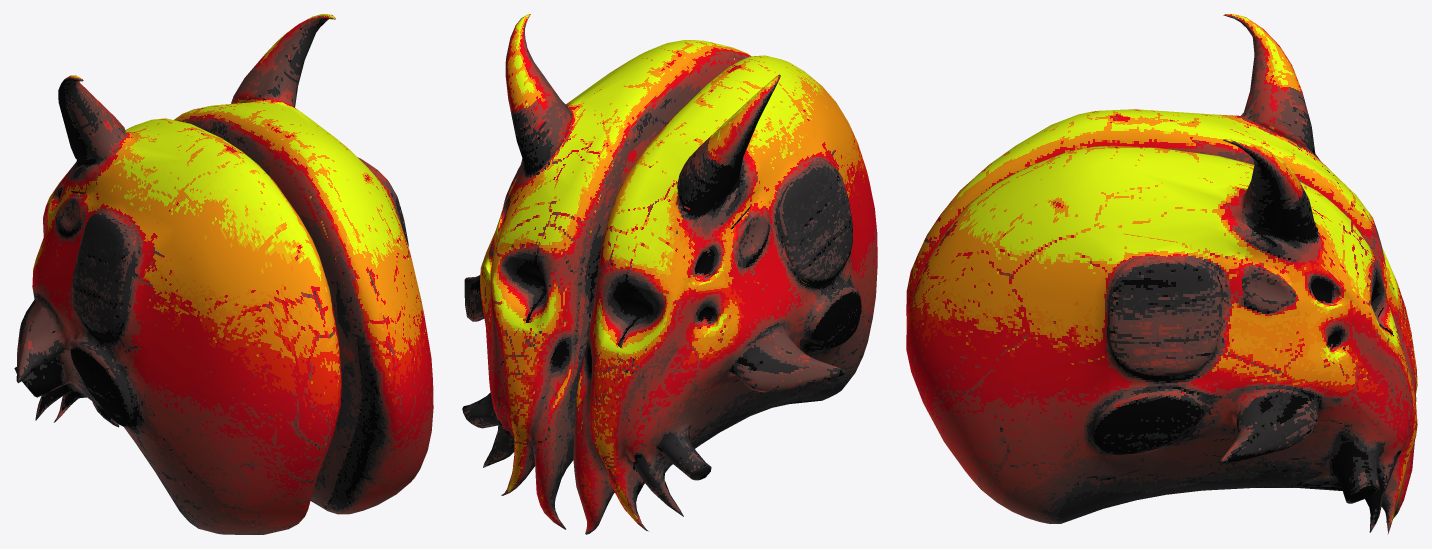
File: the hollow.glb
3 views of the same model, side by side, from view 1: azimuth 30°, elevation 25°; view 2: azimuth 150°, elevation 25°; view 3: azimuth 270°, elevation 25° (orthographic). The views are drawn at different scales.
Visible parts, largest first — view 1: Resized Skull; view 2: Resized Skull; view 3: Resized Skull.
Part boxes in pixels (box(x1,y1,x2,y2)): Resized Skull: box(14, 14, 433, 534); Resized Skull: box(462, 14, 877, 534); Resized Skull: box(906, 14, 1417, 534).
Bounding box in the file's own units: 5.11 × 5.51 × 5.79.
Materials: 1 (1 with a texture image).
